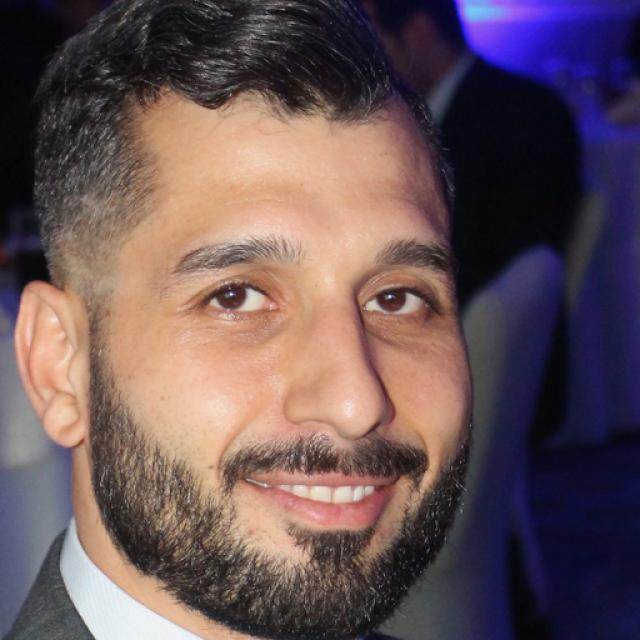Dark Circle: (203, 309, 291, 345), (364, 313, 433, 343)
